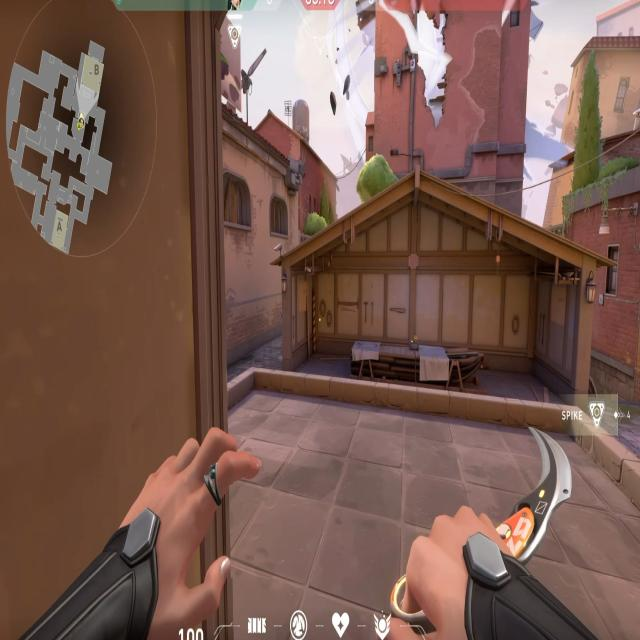B_Garage_Left: (267, 252, 343, 370)
B_Garage_Right: (472, 261, 602, 403)
Throwables: (218, 161, 254, 248), (266, 188, 293, 245)
